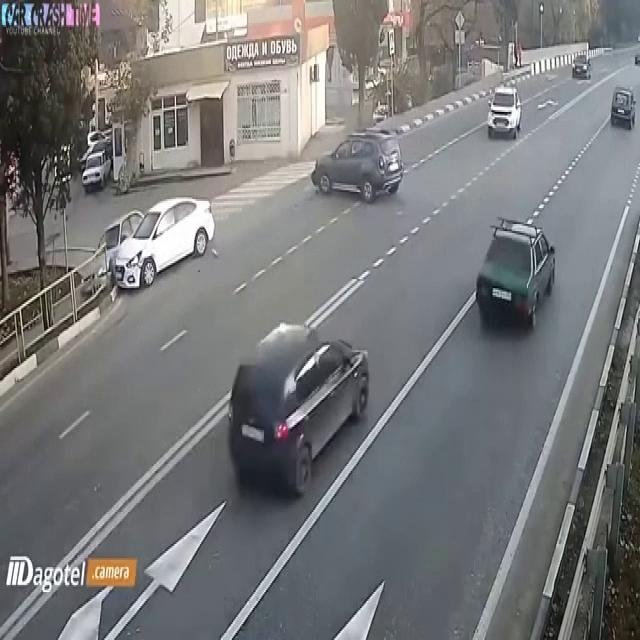accident: (92, 192, 178, 304)
